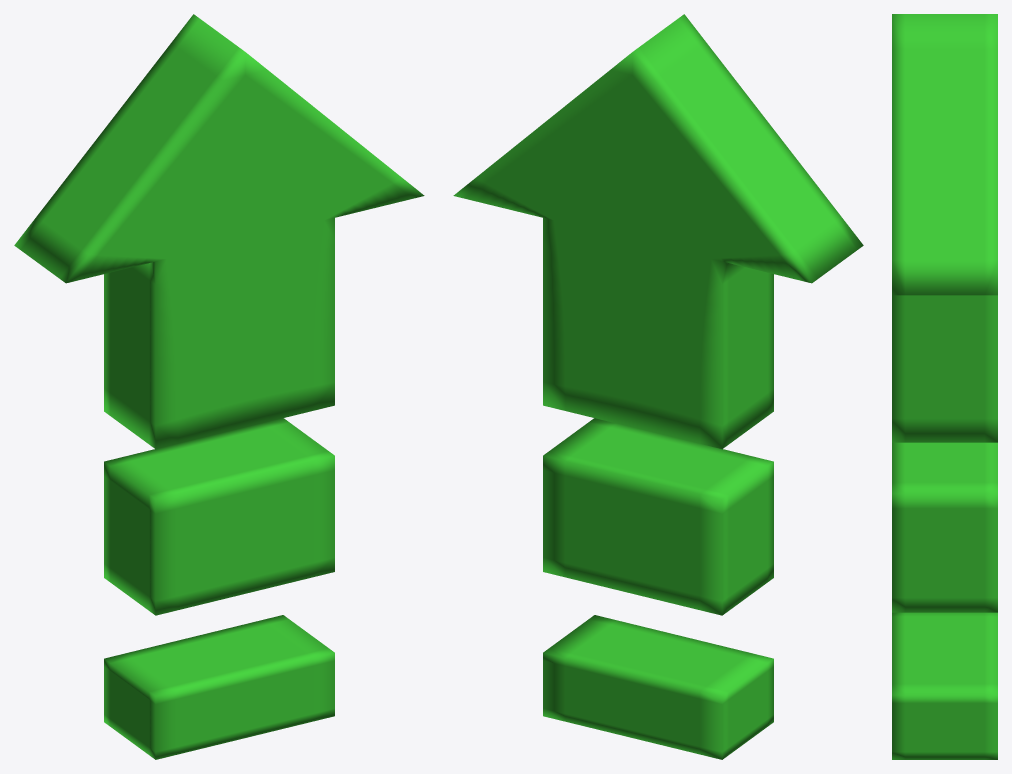
Rendered from velocity_pickup.dae.
The picture shows the model from 3 angles, left to right: view 1: azimuth 30°, elevation 25°; view 2: azimuth 150°, elevation 25°; view 3: azimuth 270°, elevation 25°; orthographic projection. The views are drawn at different scales.
Parts seen in each view (by area): view 1: Cube; view 2: Cube; view 3: Cube.
Boxes of the visible parts, box(x1,y1,x2,y2) form: Cube: box(14, 14, 424, 759); Cube: box(453, 14, 863, 759); Cube: box(892, 14, 997, 759).
Bounding box in the file's own units: 2.21 × 0.5514 × 4.03.
